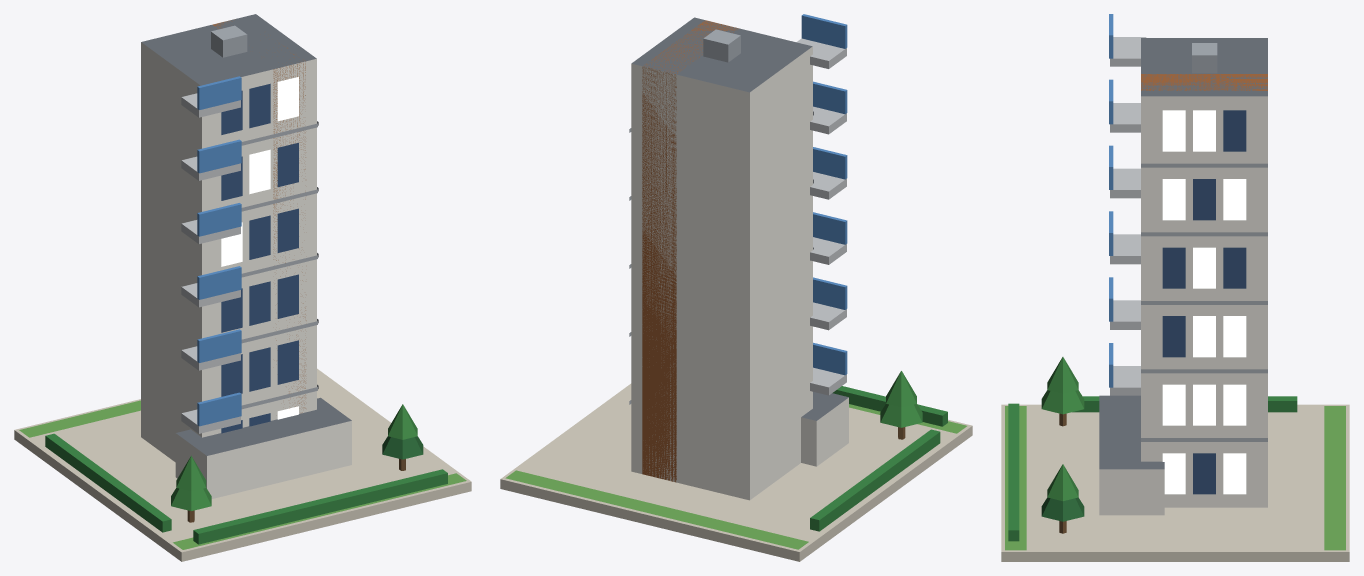
3 renders of one model, left to right at view 1: azimuth 30°, elevation 25°; view 2: azimuth 150°, elevation 25°; view 3: azimuth 270°, elevation 25°, orthographic. The views are drawn at different scales.
Parts seen in each view (by area): view 1: b07; view 2: b07; view 3: b07.
Boxes of the visible parts, x1,y1,x2,y2 form: b07: (14, 14, 471, 561); b07: (500, 14, 972, 561); b07: (1001, 14, 1349, 561).
Size of the model in its own units: 0.96 by 1.34 by 0.96.
